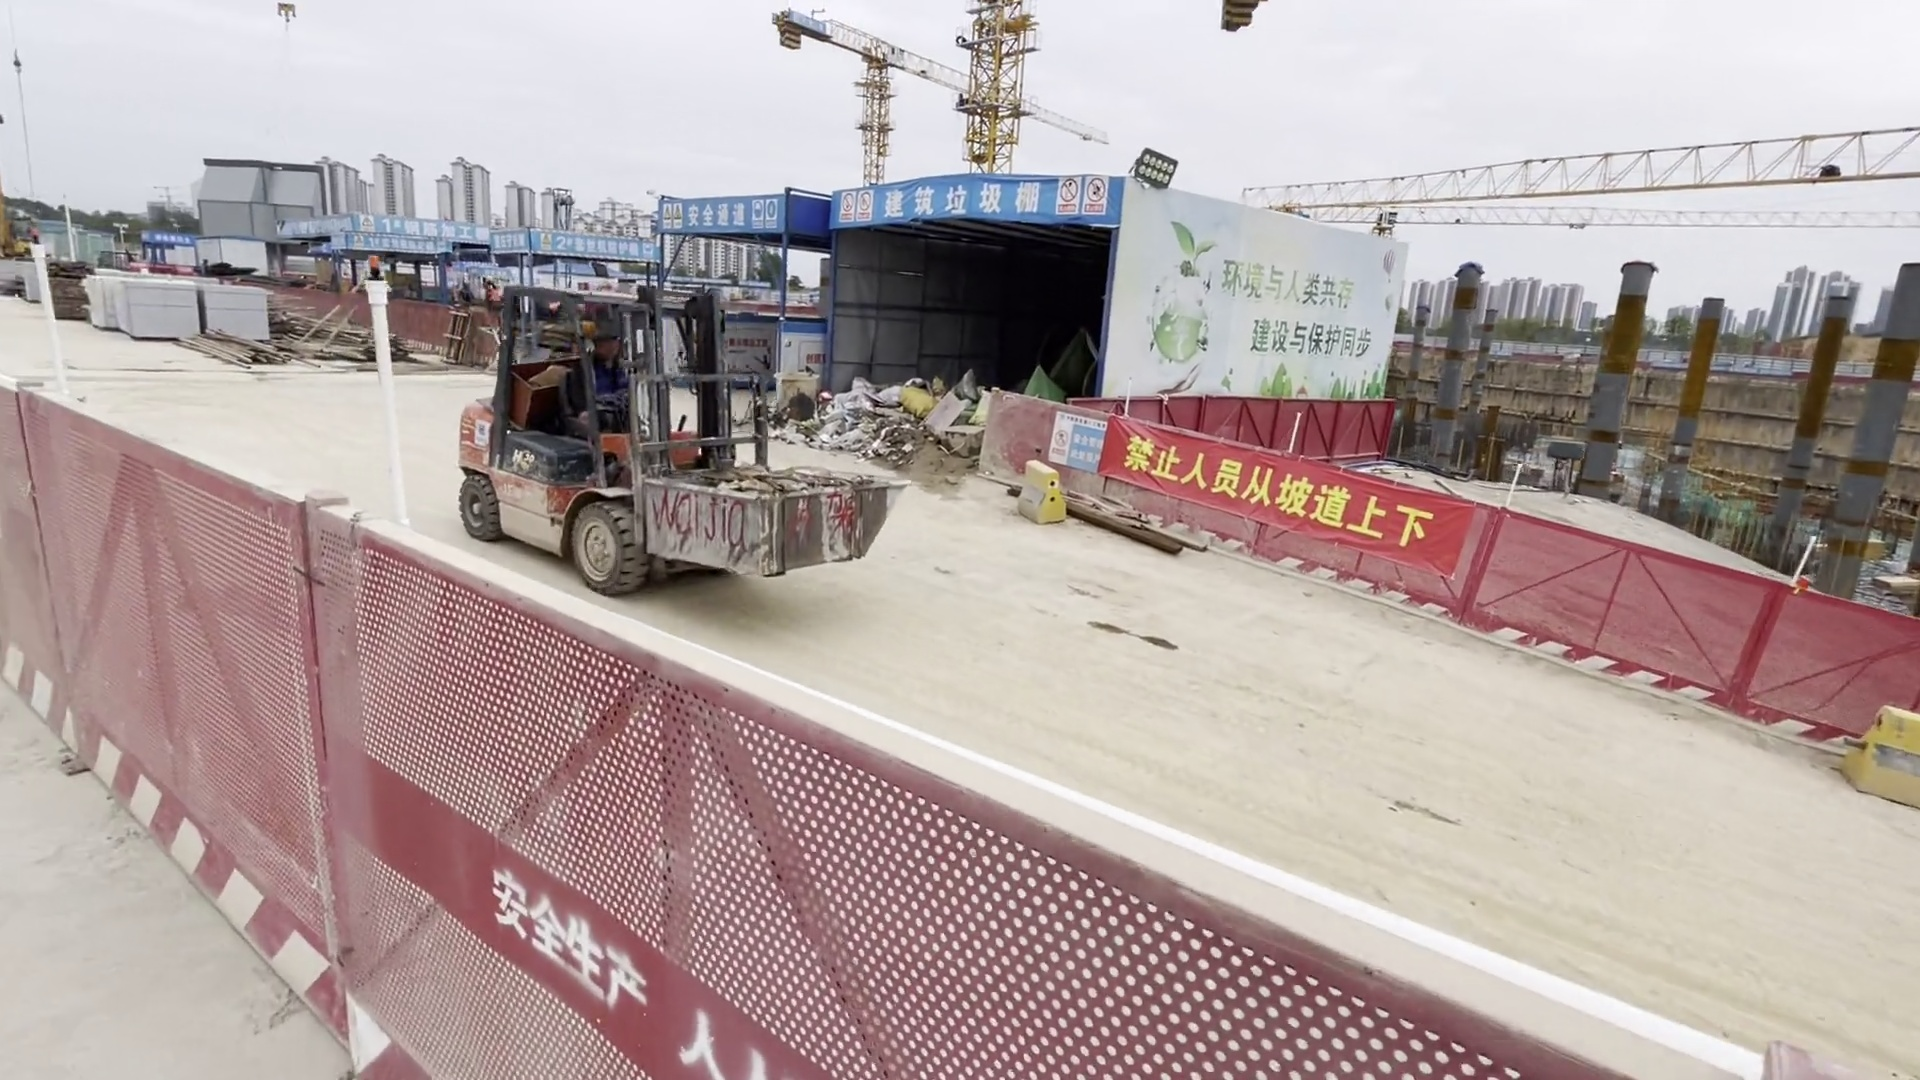brick: (115, 279, 273, 344)
fence: (6, 383, 1274, 1080)
helmet: (590, 319, 619, 343)
person: (577, 317, 635, 432)
scaffold: (269, 5, 302, 25)
slogan: (1099, 420, 1456, 564), (1169, 231, 1380, 385), (660, 184, 1093, 236), (284, 218, 645, 264)
vest: (580, 362, 631, 421)
